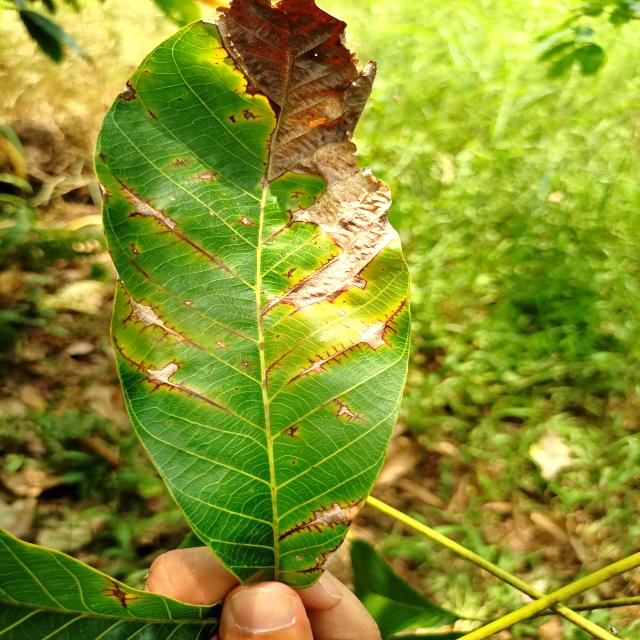Colletotrichum: (292, 461, 296, 464), (253, 530, 256, 533)
Corynespora: (107, 173, 230, 272), (285, 297, 408, 388), (113, 335, 227, 411), (117, 278, 204, 350), (261, 256, 334, 316), (278, 496, 367, 542), (298, 540, 343, 574), (100, 576, 144, 610), (266, 350, 292, 390), (332, 398, 368, 423), (186, 170, 222, 182), (168, 158, 193, 169), (238, 358, 256, 372), (237, 216, 259, 227), (284, 422, 300, 437), (242, 108, 262, 120), (290, 190, 306, 200), (282, 268, 296, 279)
Leaf-Blight: (203, 0, 401, 310), (119, 83, 135, 100)
